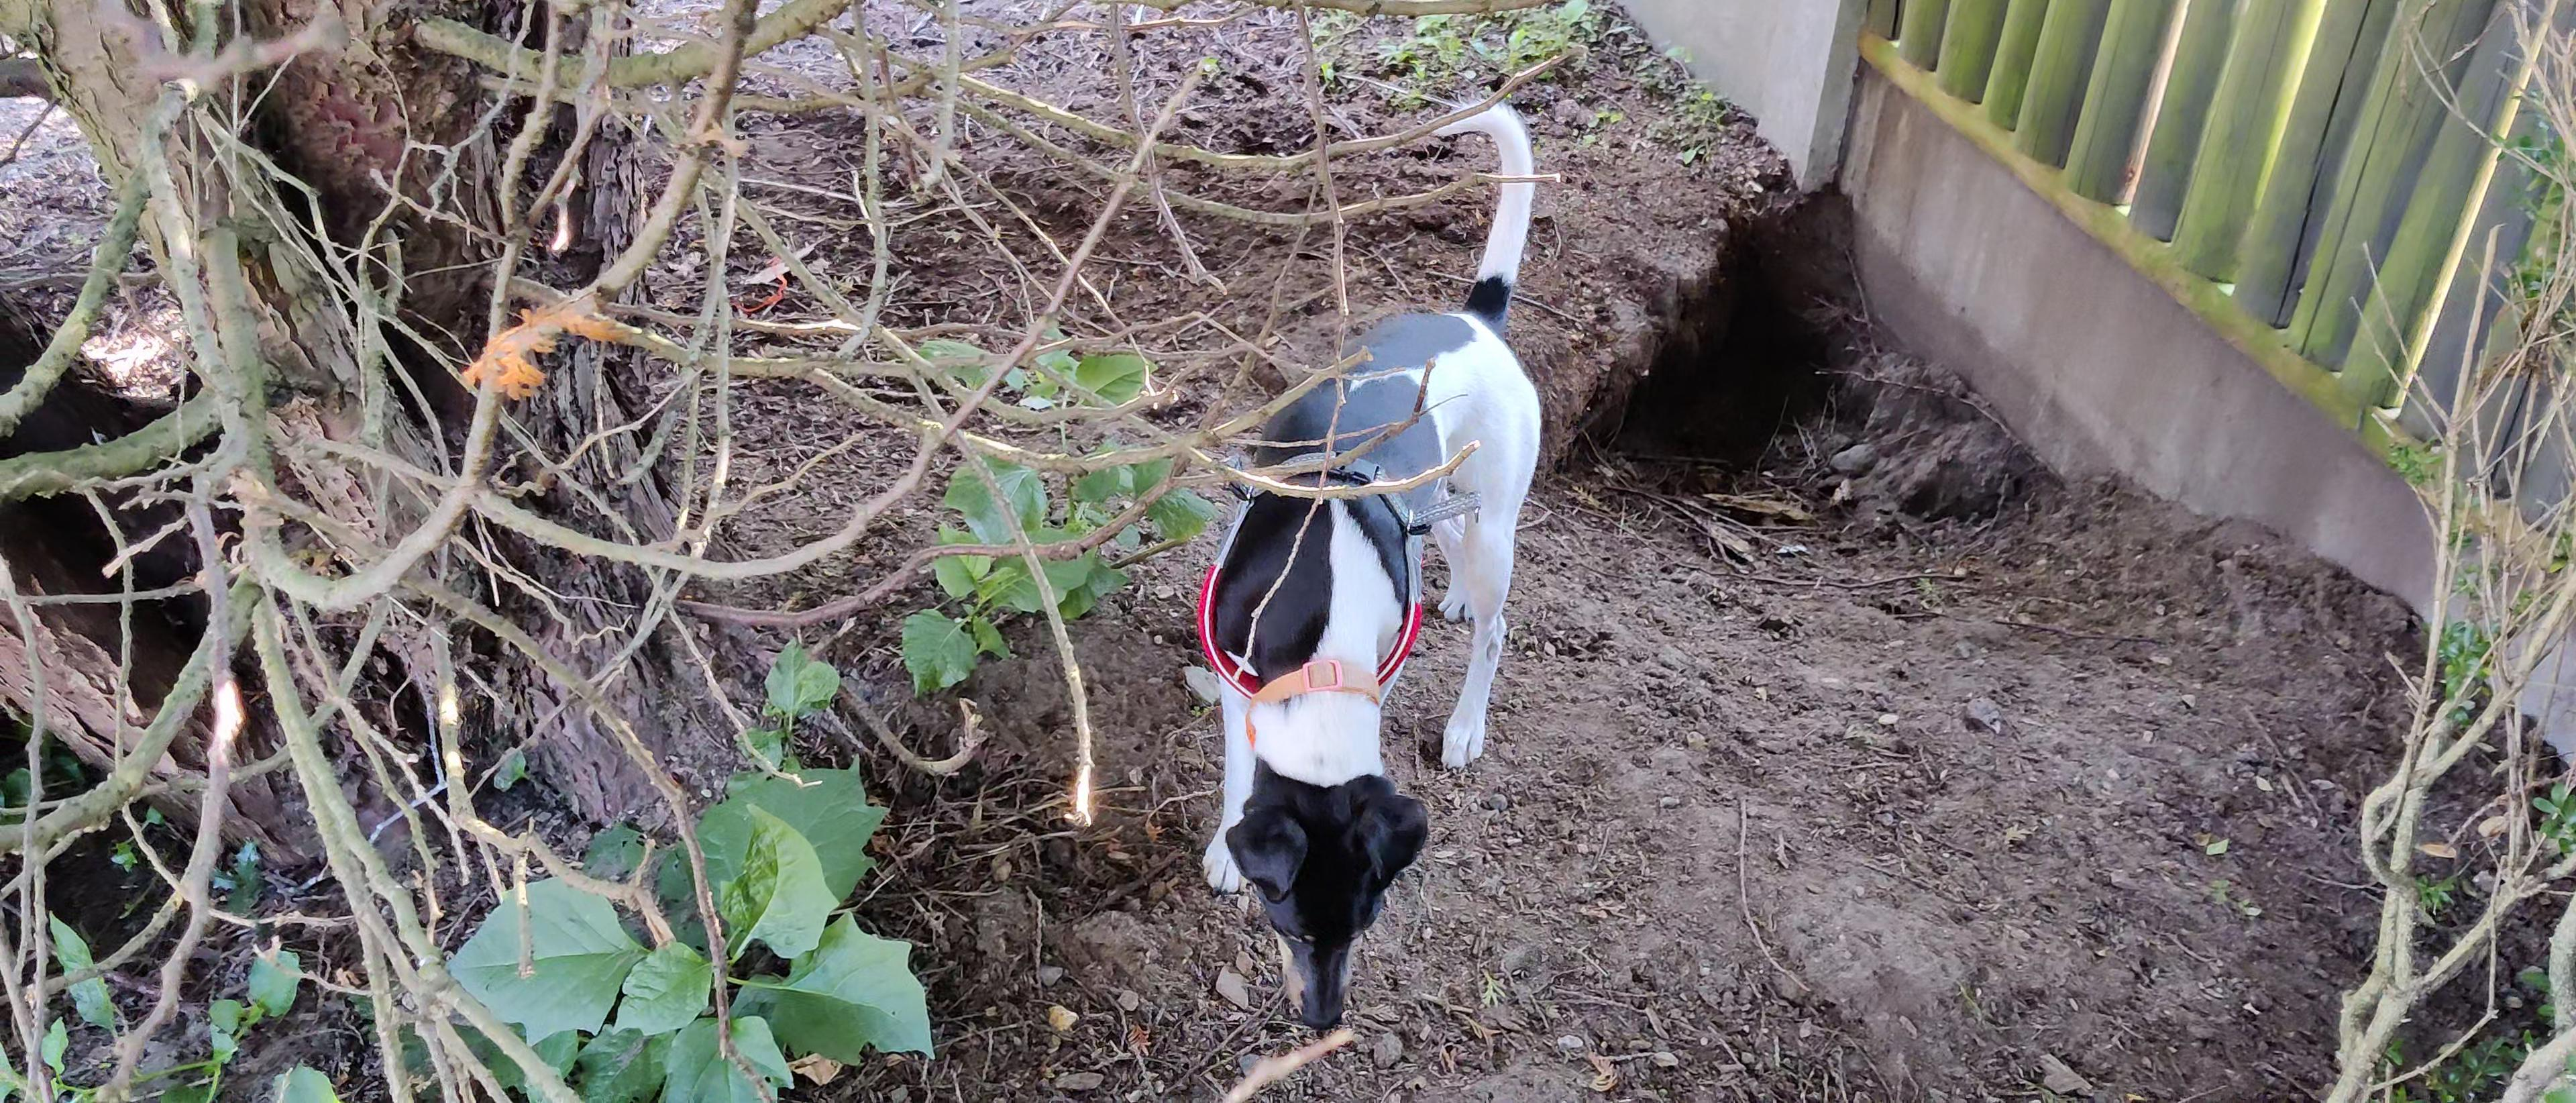Dog: (1183, 69, 1559, 1032)
